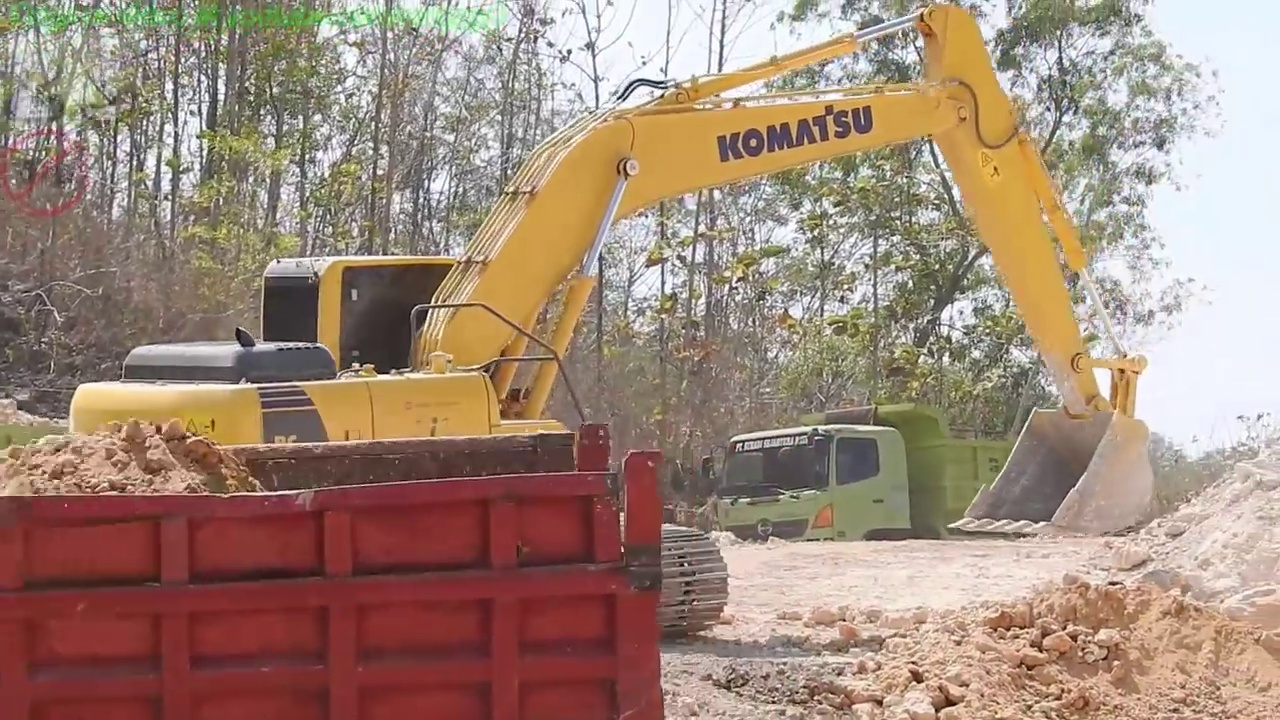excavator: (51, 1, 1162, 671)
truck: (1, 417, 669, 720), (705, 398, 1162, 588)
